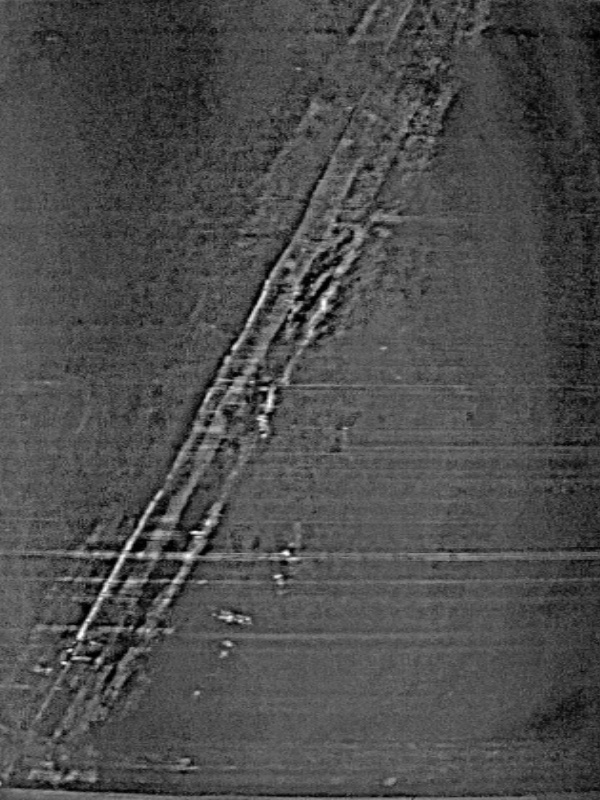splice_vulcanized: (2, 1, 483, 788)
